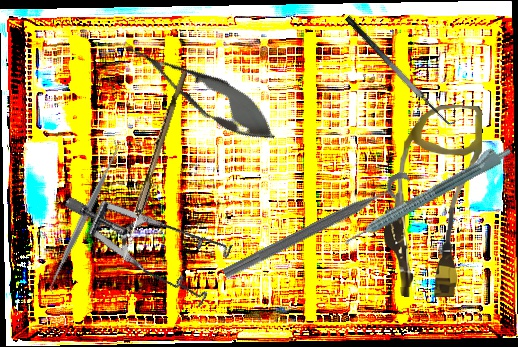Cannula: (383, 104, 483, 298)
Fixation Ring: (219, 169, 421, 295)
Handpiece: (337, 138, 515, 249)
Micro Scissor: (113, 25, 287, 155)
Spatula Surgical: (344, 6, 460, 132), (39, 138, 129, 296)
Speculum: (62, 136, 252, 340)
Surgical Spoon: (118, 69, 188, 265)
